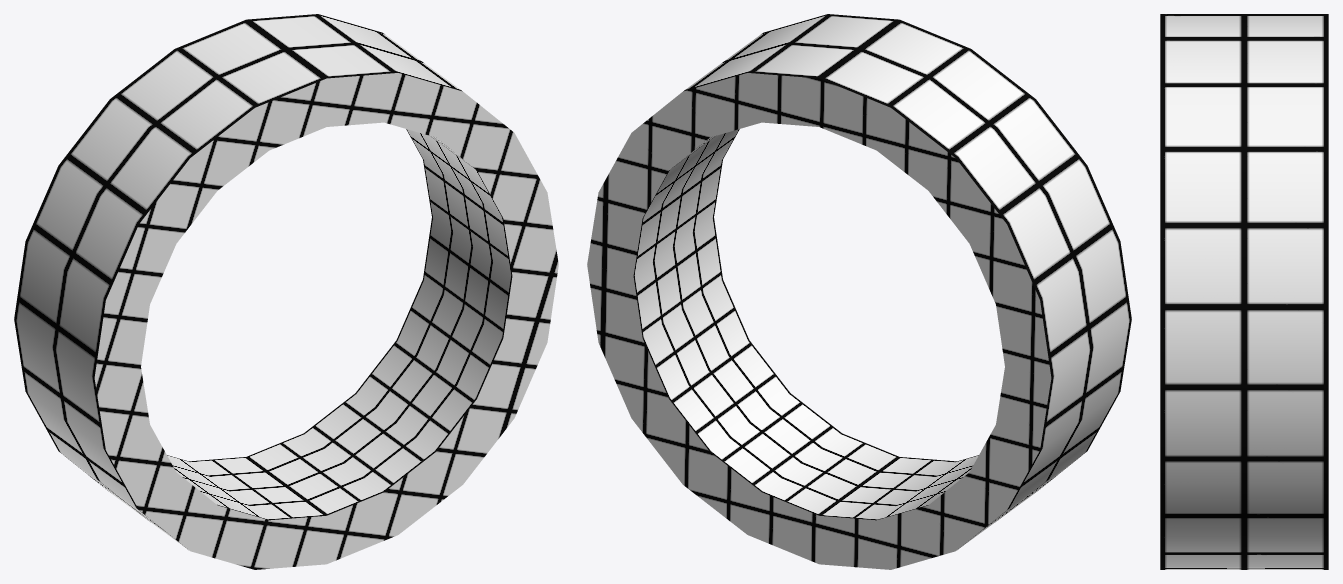
Rendered from ringObj.fbx.
3 views of the same model, side by side, from view 1: azimuth 30°, elevation 25°; view 2: azimuth 150°, elevation 25°; view 3: azimuth 270°, elevation 25° (orthographic). The views are drawn at different scales.
Visible parts, largest first — view 1: Ring; view 2: Ring; view 3: Ring.
Boxes of the visible parts, x1,y1,x2,y2 form: Ring: (14, 14, 558, 569); Ring: (587, 14, 1131, 569); Ring: (1160, 14, 1328, 569).
Size of the model in its own units: 20 by 20 by 6.
Materials: 1 (1 with a texture image).
